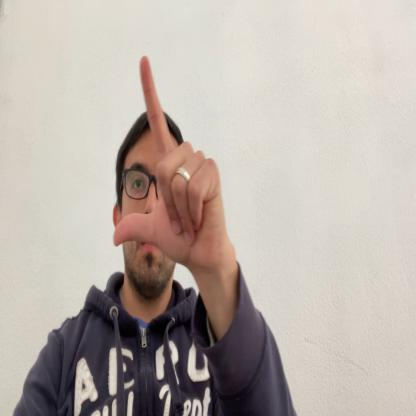L: (113, 55, 226, 270)
